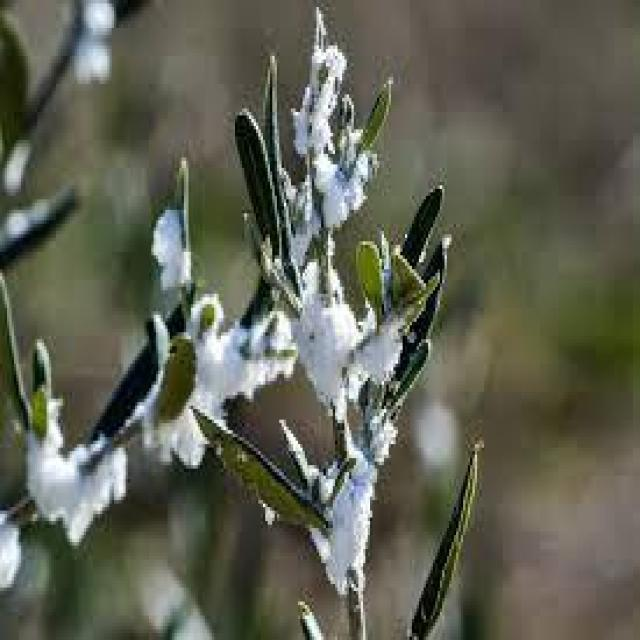Psyllid: (277, 14, 391, 252), (142, 290, 296, 462), (280, 409, 396, 636), (23, 343, 124, 542), (293, 270, 398, 420), (150, 206, 188, 298), (0, 500, 24, 594)
